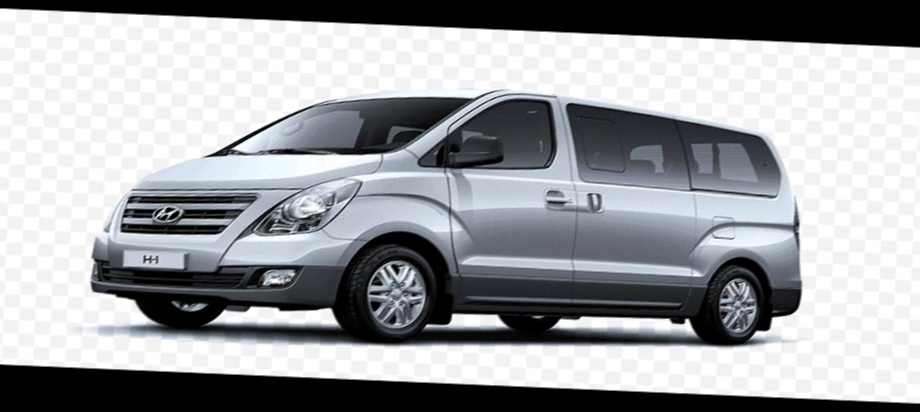van: (79, 65, 819, 344)
